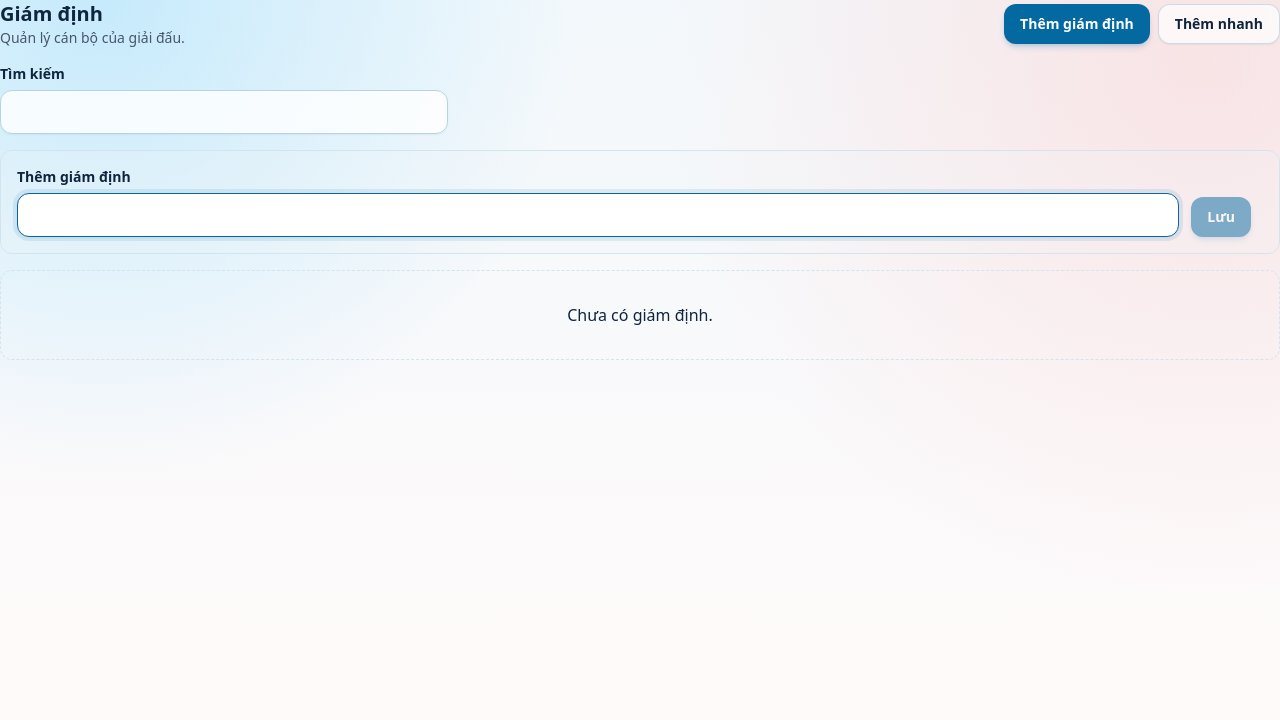
TournamentOfficialsPage credentials › preserves successful credentials if a later creation fails
The image size is (1280, 720).
Click the button "Thêm nhanh". click: point(1219, 24)
box: [1158,4,1279,44]
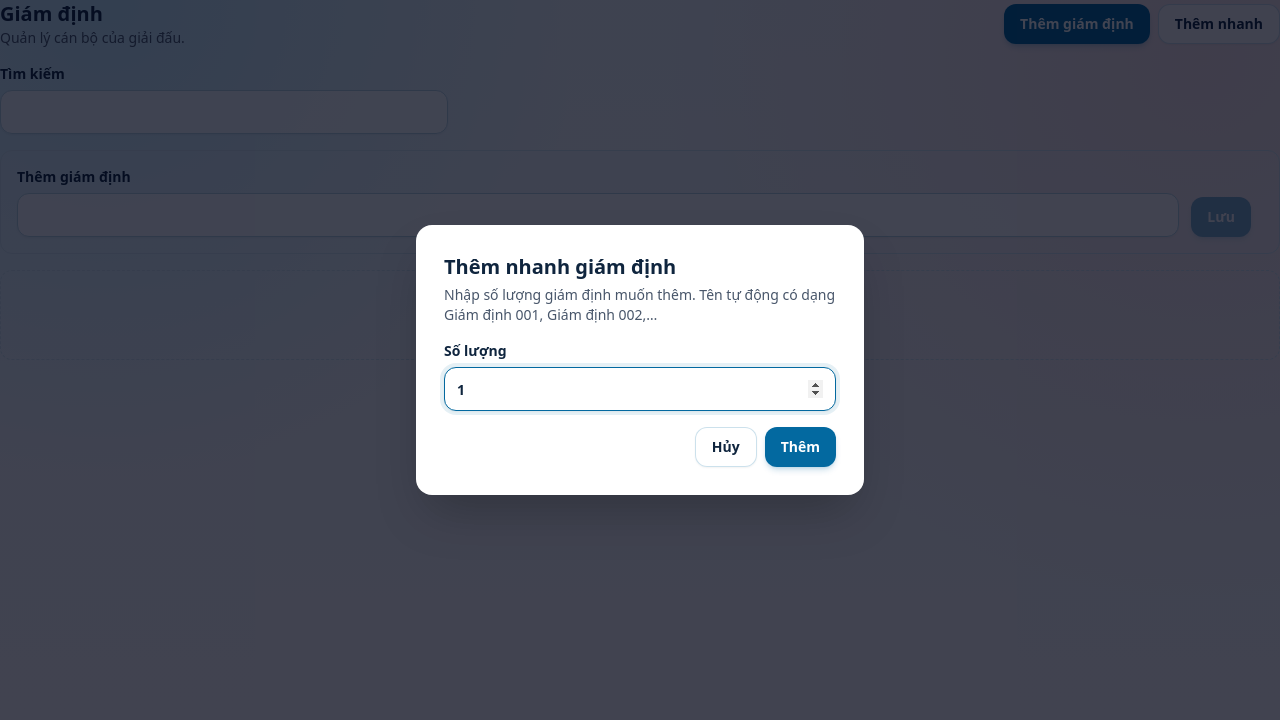
Replace the text in the number field labelled "Số lượng" with "3". click: point(640, 389)
box: [444,367,836,411]
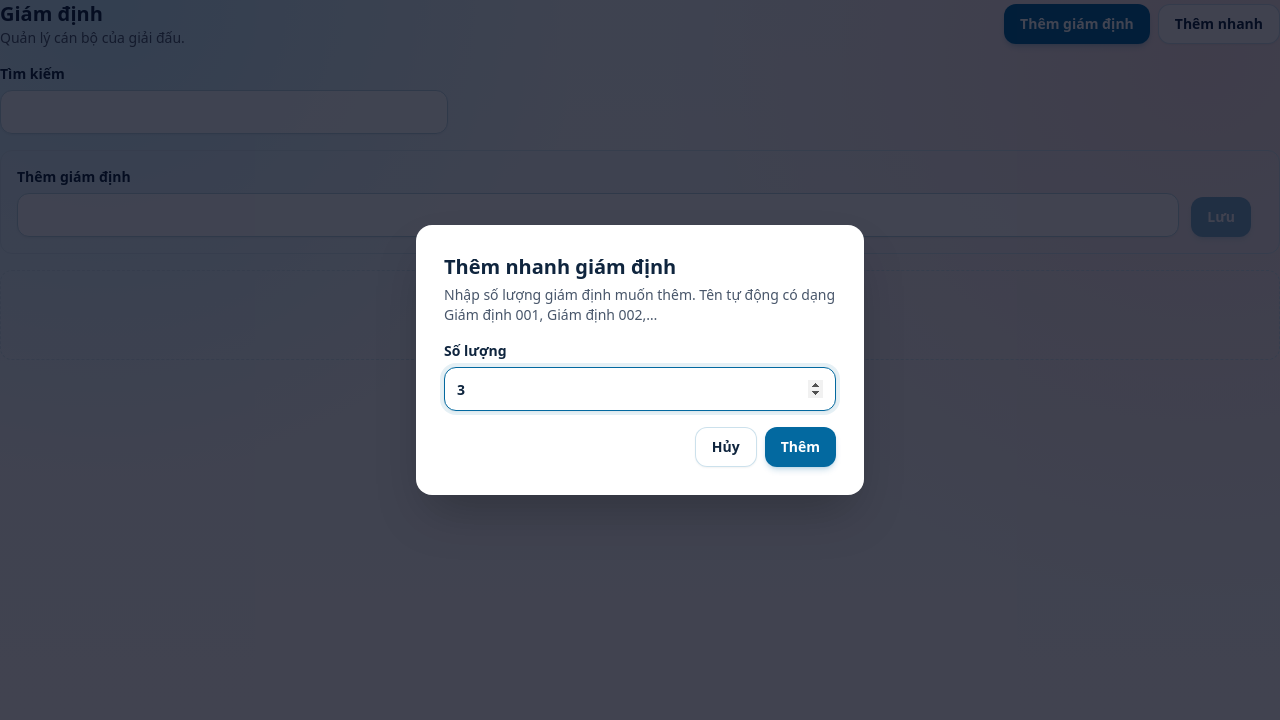
Click the button "Thêm". click: point(800, 447)
box: [765,427,836,467]
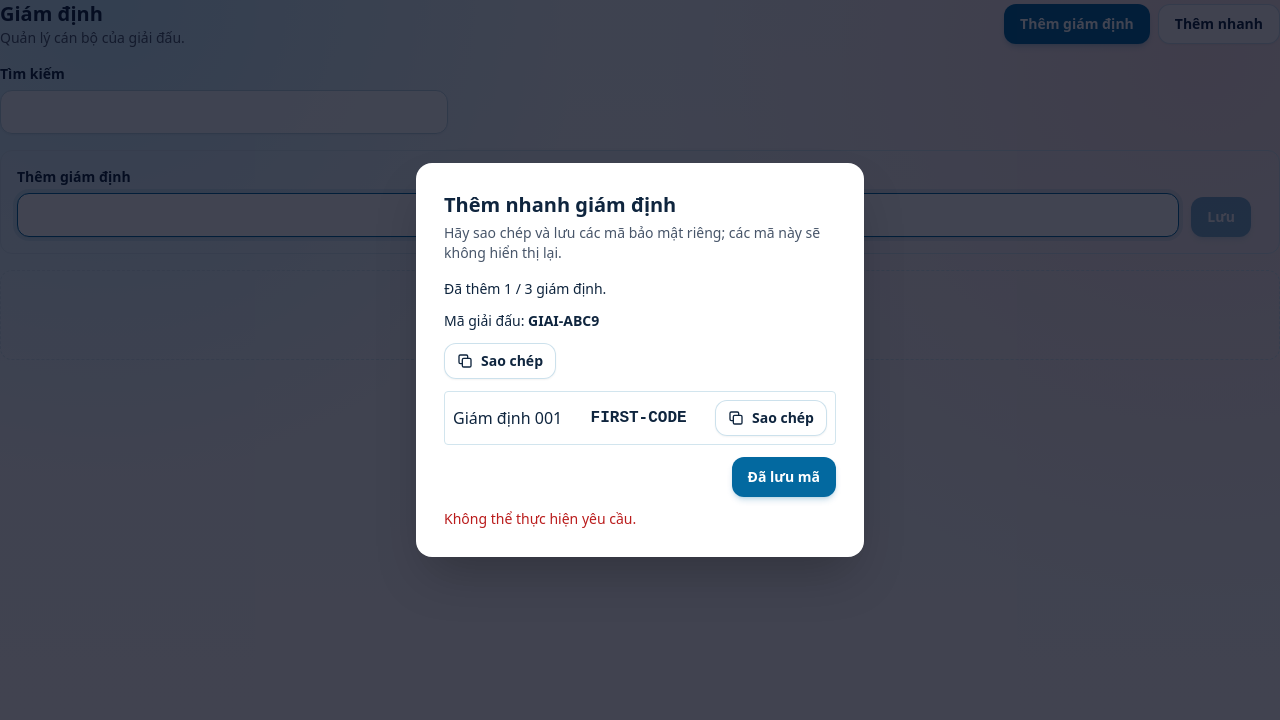
Now the message "Không thể thực hiện yêu cầu." is shown, box [444,509,636,528]
Now the text "FIRST-CODE" is shown, box [591,406,687,430]
